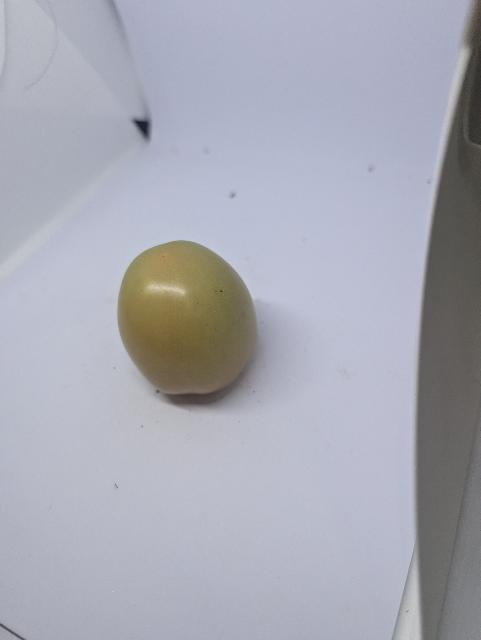breaker: (113, 240, 264, 405)
